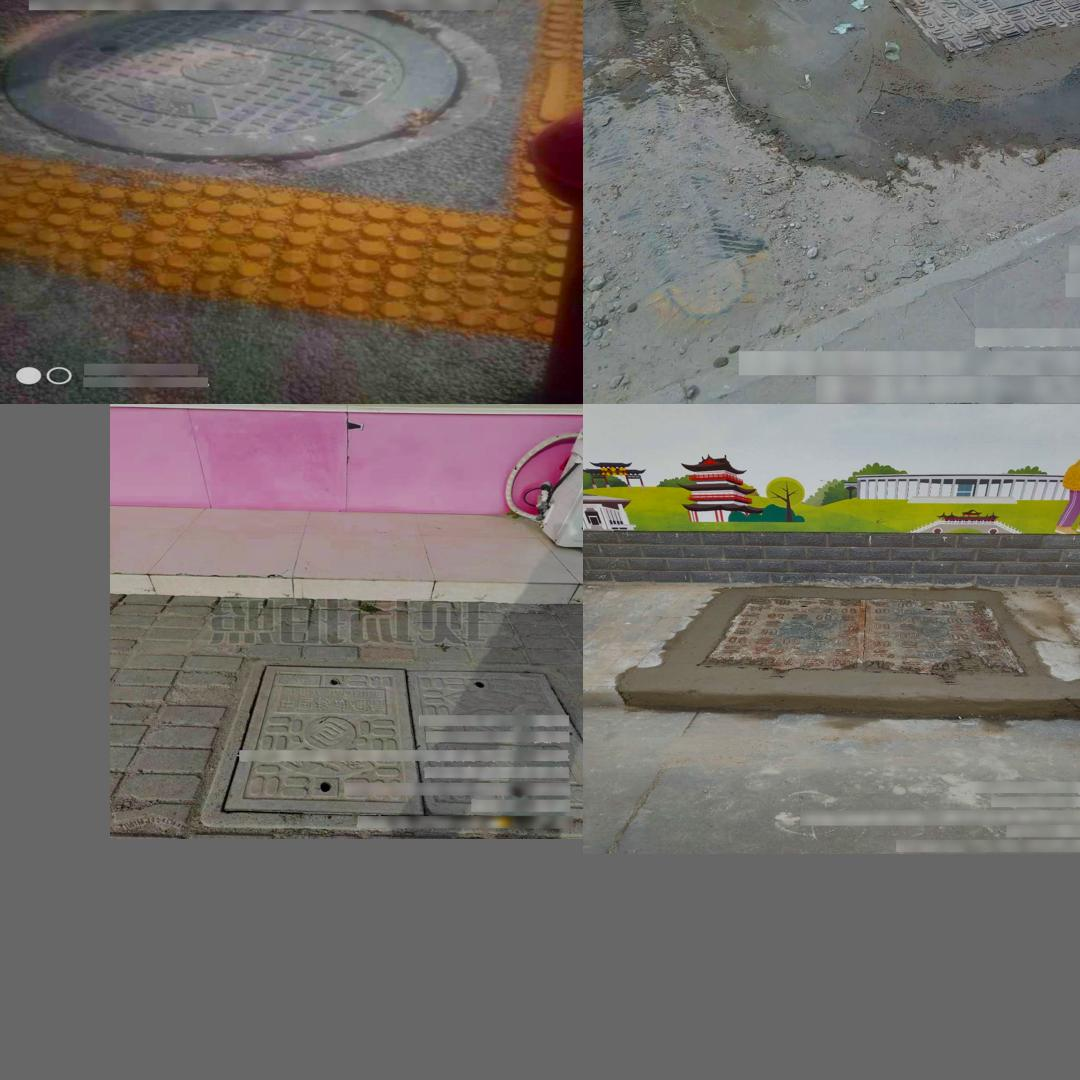good: (14, 0, 499, 175), (200, 660, 582, 829), (690, 594, 1035, 684), (867, 0, 1080, 57)
